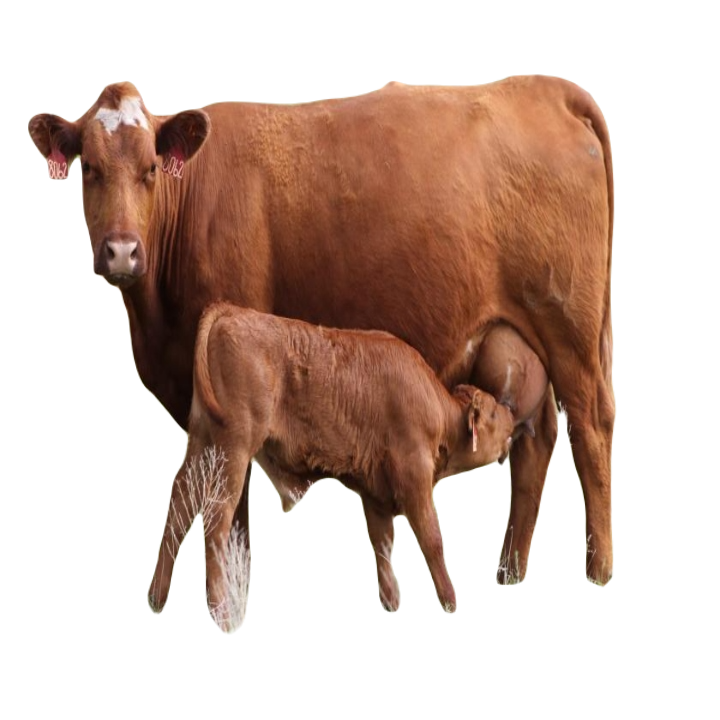Cow: (24, 78, 622, 611)
